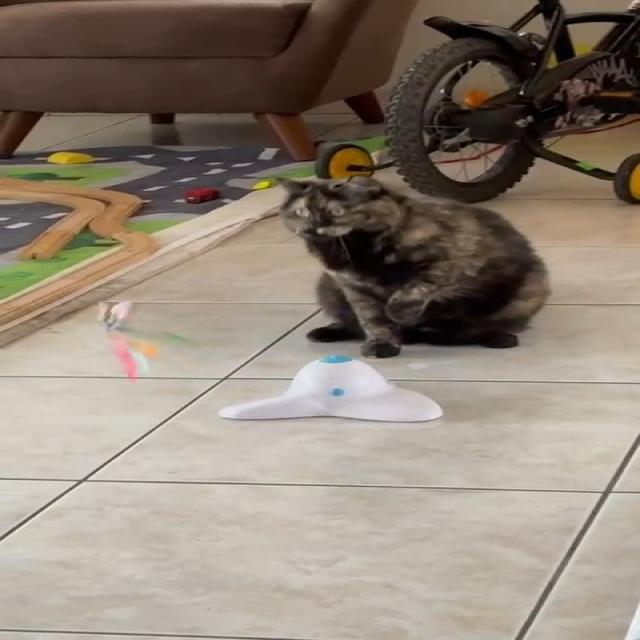authorized: (276, 174, 551, 358)
